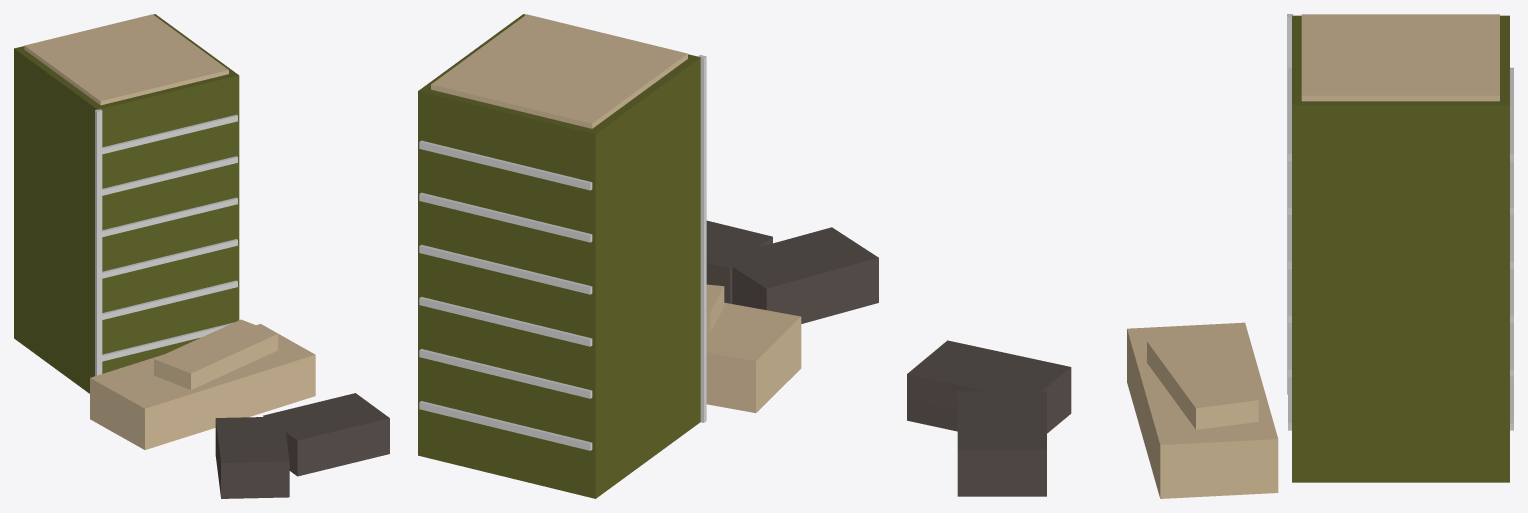
Rendered from SM_HescoCorto1_v1_Geotextil_e1_Danado_LOD0.fbx.
The picture shows the model from 3 angles, left to right: view 1: azimuth 30°, elevation 25°; view 2: azimuth 150°, elevation 25°; view 3: azimuth 270°, elevation 25°; orthographic projection. The views are drawn at different scales.
Visible parts, largest first — view 1: SM_hesco_piezas_v45_LOD0; view 2: SM_hesco_piezas_v45_LOD0; view 3: SM_hesco_piezas_v45_LOD0.
Boxes of the visible parts, bbox=[...] form: SM_hesco_piezas_v45_LOD0: bbox=[14, 14, 389, 498]; SM_hesco_piezas_v45_LOD0: bbox=[418, 14, 878, 498]; SM_hesco_piezas_v45_LOD0: bbox=[907, 14, 1513, 498].
Bounding box in the file's own units: 1.46 × 2.13 × 3.06.
